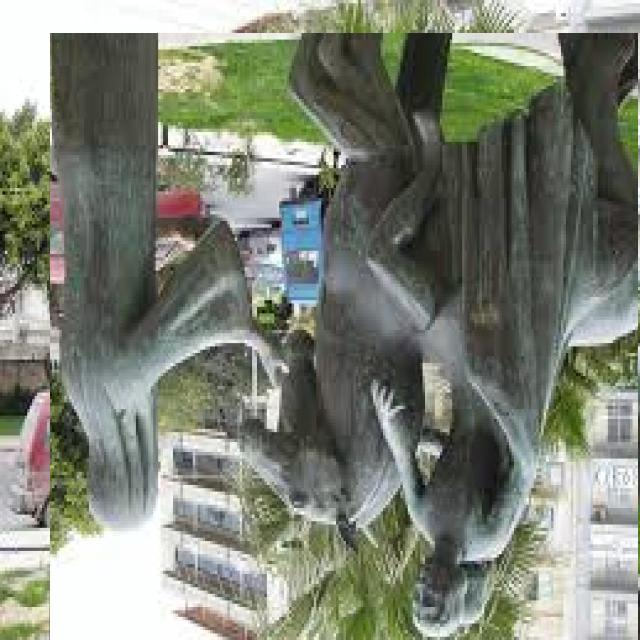Aretousa: (52, 34, 640, 640)
